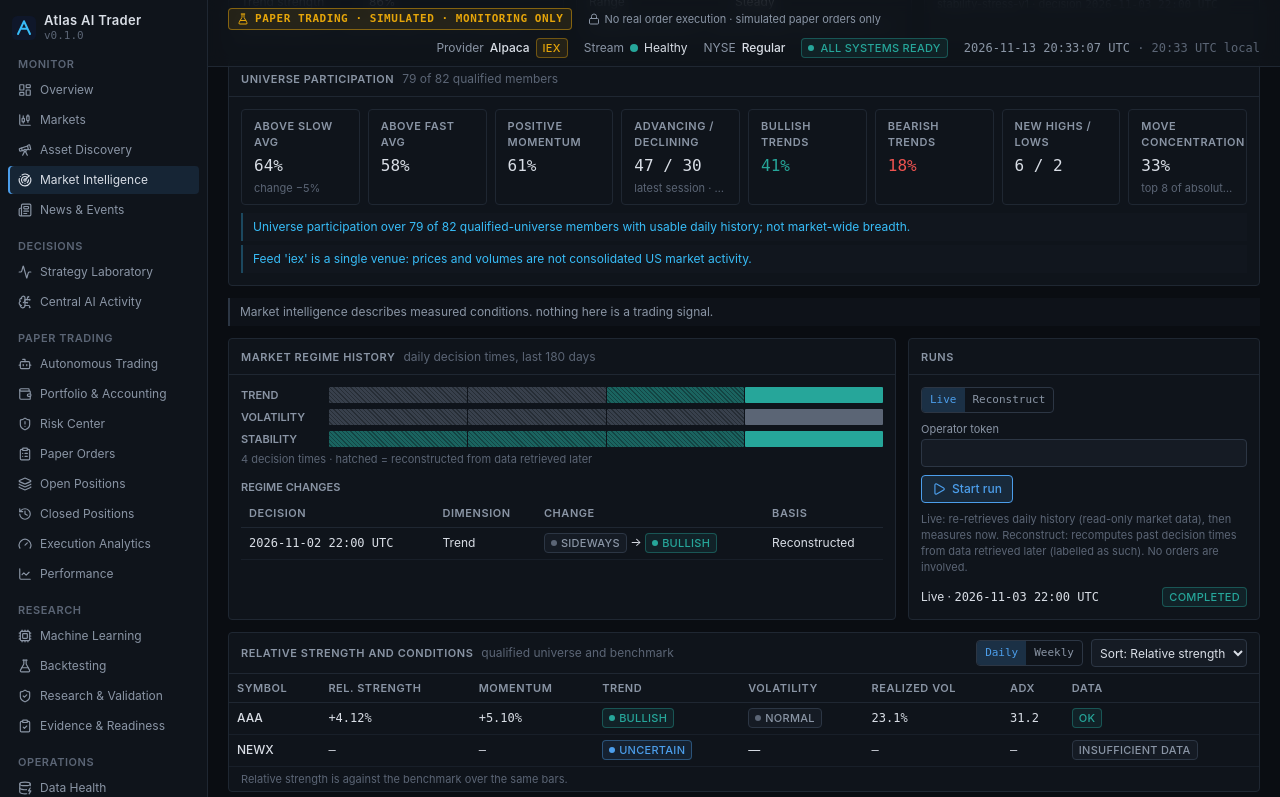
Test: Market Intelligence › starts a reconstruction with the operator token
(page scrolled)
Click the radio button labelled "Reconstruct" at (1009, 400), box [964,388,1053,412]
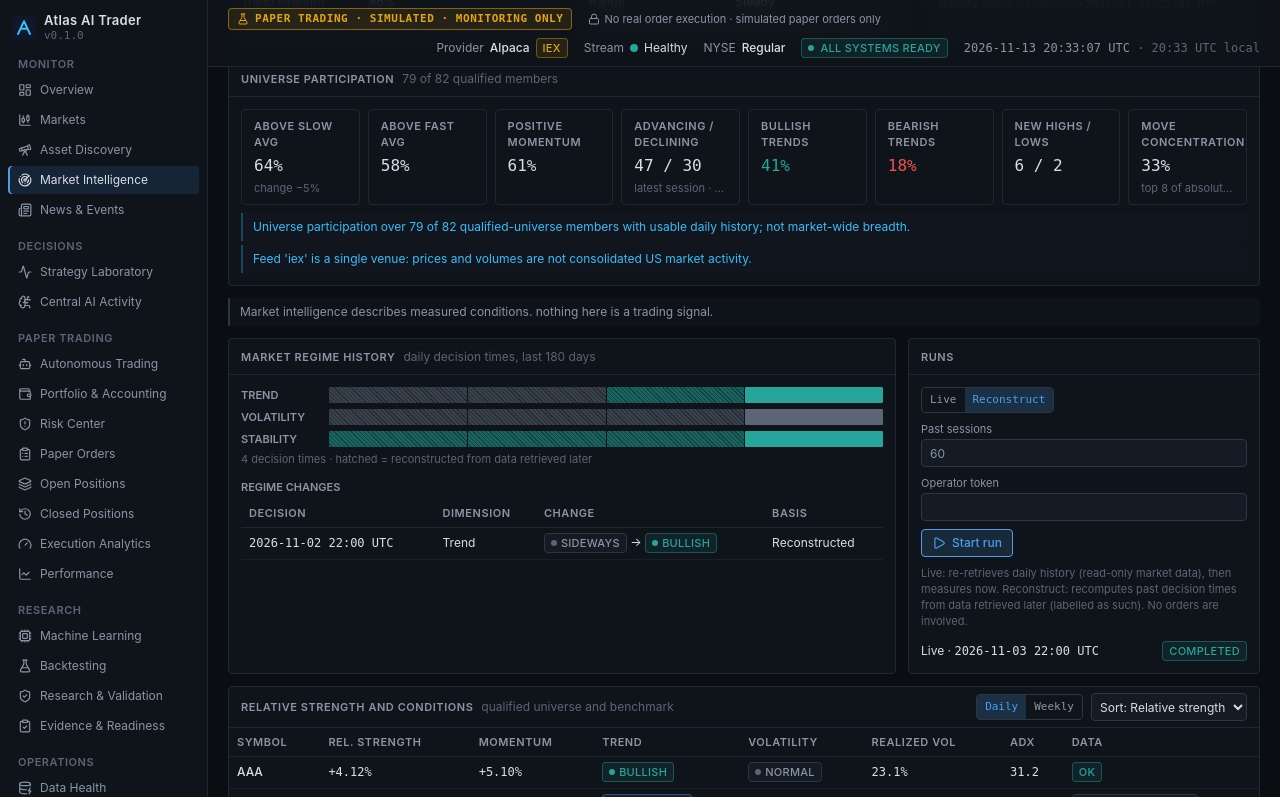
Replace the text in the number field labelled "Past sessions" with "30" at (1084, 453), box [921,439,1247,467]
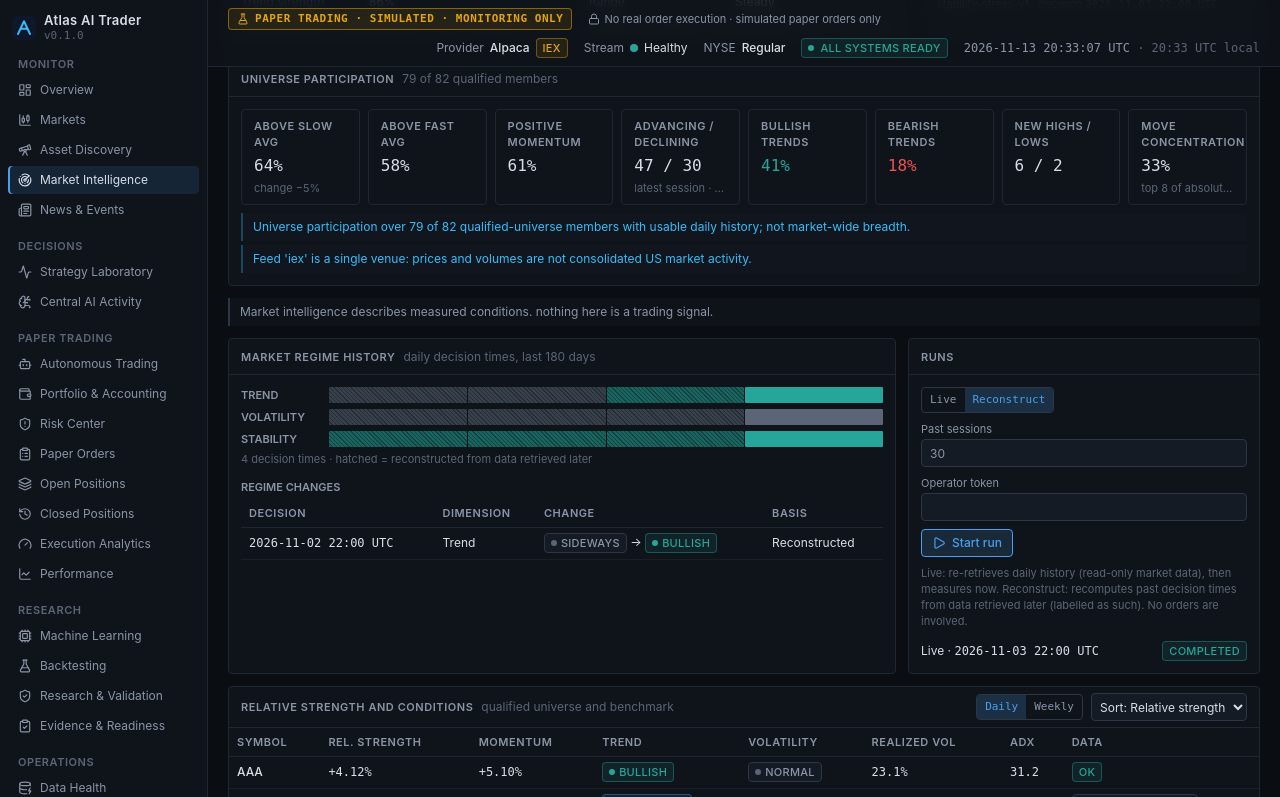
Type "op-secret" into the password field labelled "Operator token" at (1084, 507), box [921,493,1247,521]
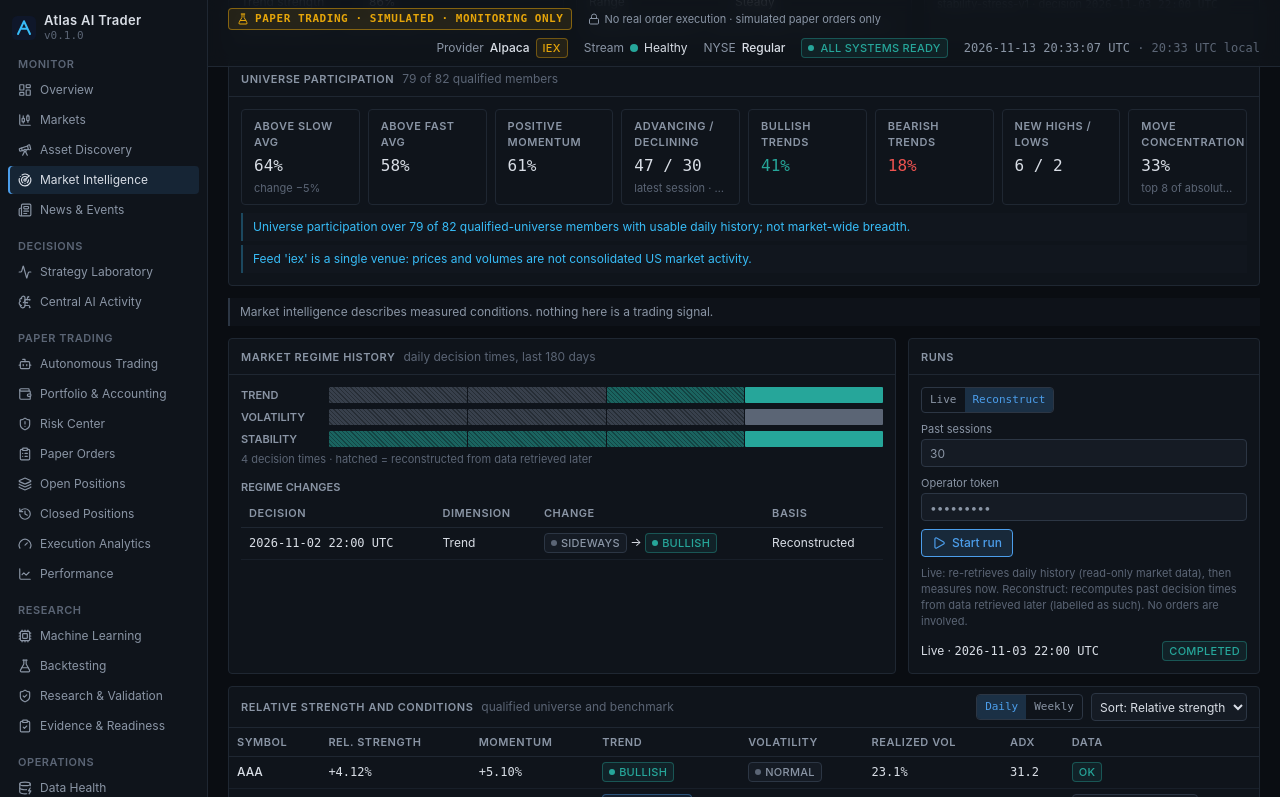
Click the button "Start run" at (967, 543), box [921,529,1013,557]
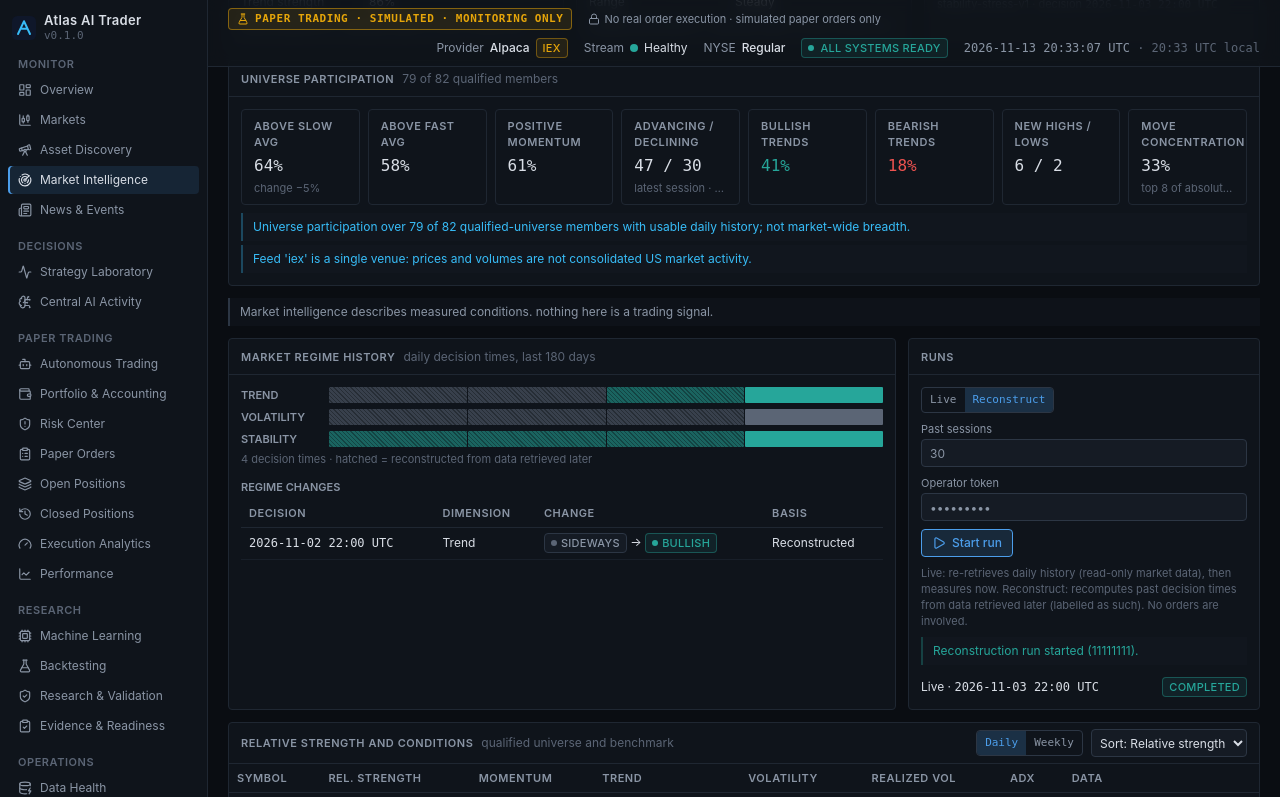
Result: the text "Reconstruction run started (11111111)." is shown at [921,637,1247,665]
